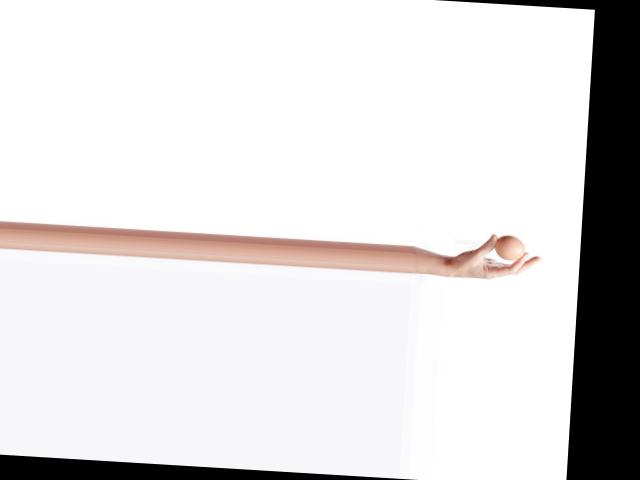egg: (493, 234, 525, 260)
